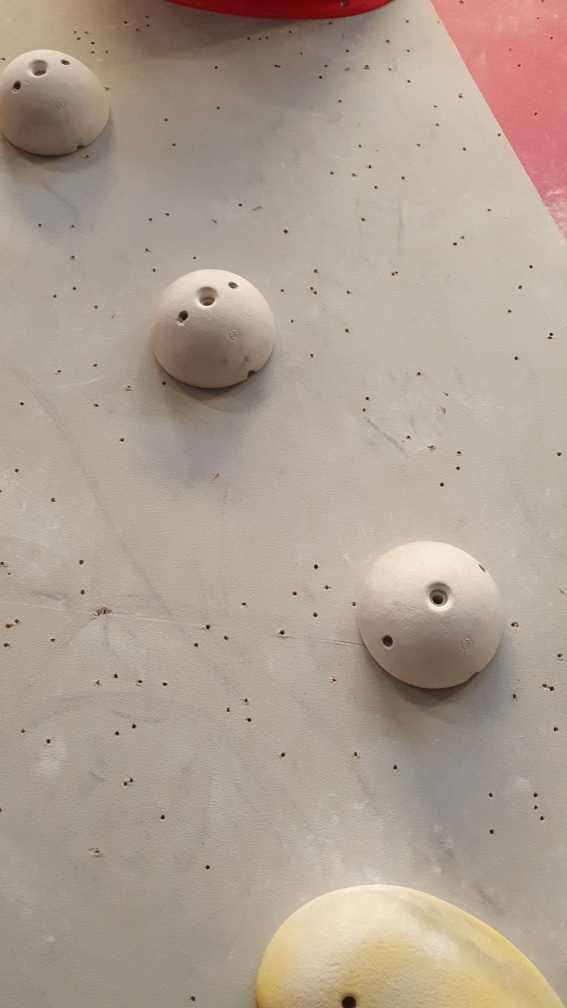Sloper: (359, 536, 510, 695), (147, 270, 282, 395), (1, 44, 115, 159)
